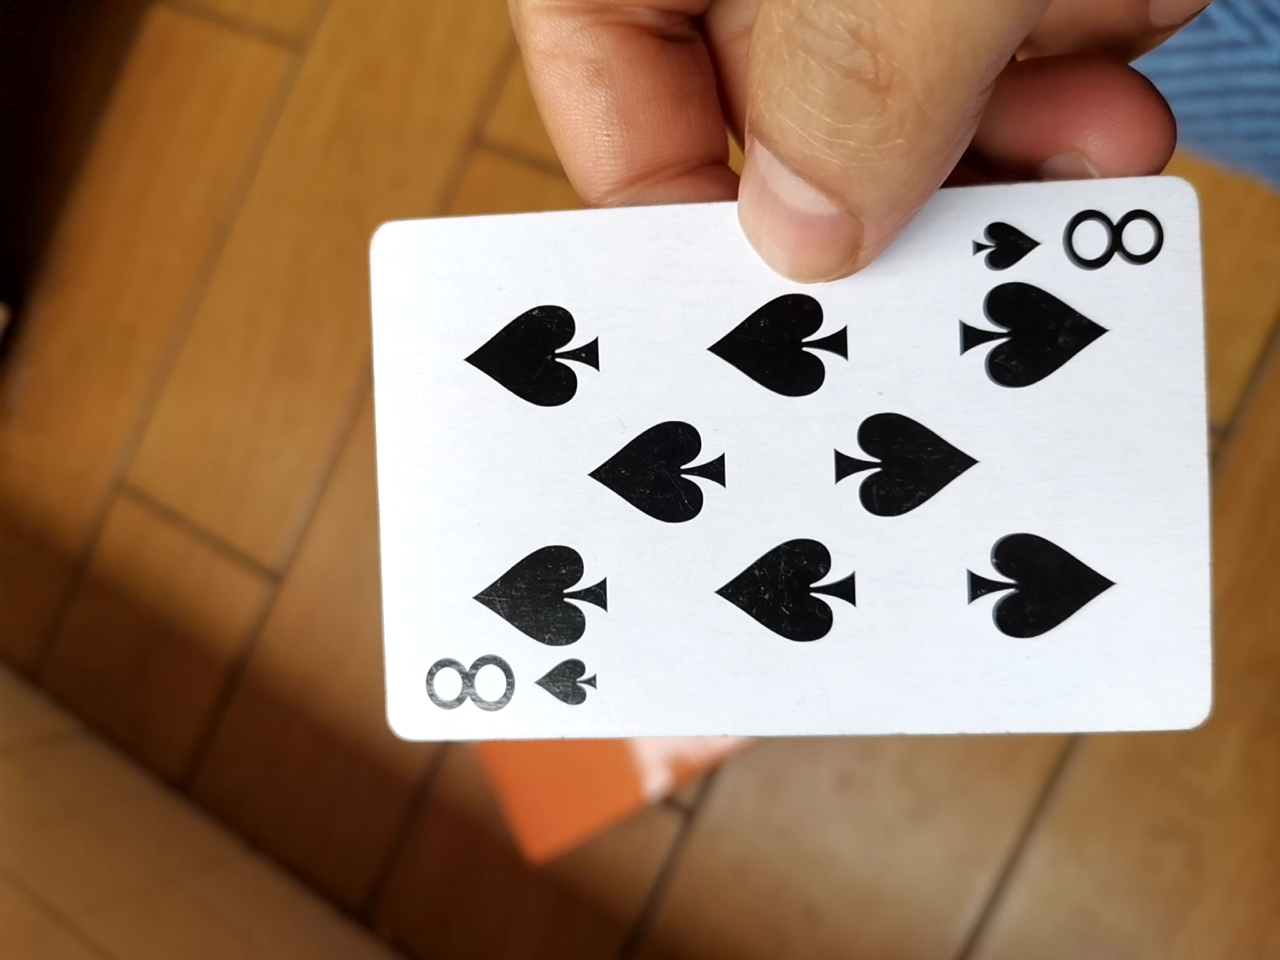ht 8: (357, 182, 1221, 754)
